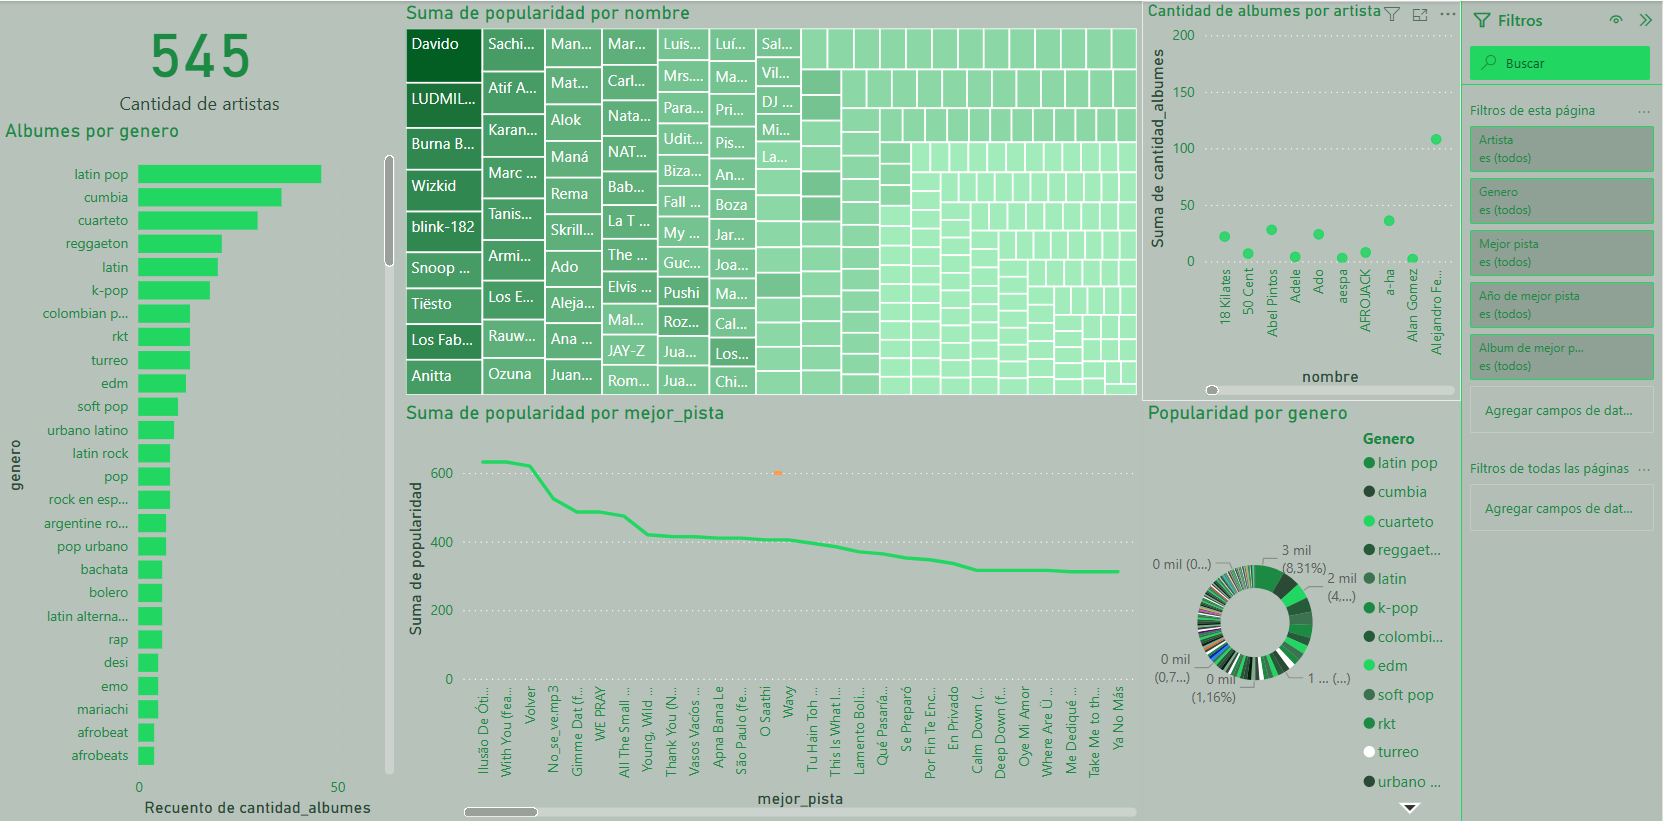

The page's visual inventory and layout, read from the dashboard file:
{"tool":"powerbi","page":{"name":"Pop","canvas":[1280,720],"ordinal":2},"visuals":[{"type":"card","fields":{"Values":["pop_todo.nombre"]},"box":[0,0,351,103.3],"z":0},{"type":"clusteredBarChart","title":"Albumes por genero","fields":{"Category":["pop_todo.genero"],"Y":["pop_todo.cantidad_albumes"]},"box":[0,103.3,351.1,616.4],"z":1000},{"type":"treemap","fields":{"Group":["pop_todo.nombre"],"Values":["pop_todo.popularidad"]},"box":[351.1,0,650,350],"z":2000},{"type":"lineChart","fields":{"Category":["pop_todo.mejor_pista"],"Y":["pop_todo.popularidad"]},"box":[351.1,350.2,649.6,369.5],"z":3000},{"type":"scatterChart","title":"Cantidad de albumes por artista","fields":{"X":["pop_todo.nombre"],"Y":["pop_todo.cantidad_albumes"]},"box":[1000.7,0,279.3,350.2],"z":4000},{"type":"donutChart","title":"Popularidad por genero","fields":{"Category":["pop_todo.genero"],"Y":["pop_todo.popularidad"]},"box":[1000.7,350.2,279.3,369.5],"z":5000}]}

Visuals, with their boxes on the page's 1280x720 design canvas (x1, y1, x2, y2). These are canvas units, not pixel positions in the 1663x821 screenshot, which may show the page scaled, cropped or inside an application window:
card - pop_todo.nombre: detection(0, 0, 351, 103)
"Albumes por genero" clusteredBarChart: detection(0, 103, 351, 720)
treemap - pop_todo.nombre x pop_todo.popularidad: detection(351, 0, 1001, 350)
lineChart - pop_todo.mejor_pista x pop_todo.popularidad: detection(351, 350, 1001, 720)
"Cantidad de albumes por artista" scatterChart: detection(1001, 0, 1280, 350)
"Popularidad por genero" donutChart: detection(1001, 350, 1280, 720)
